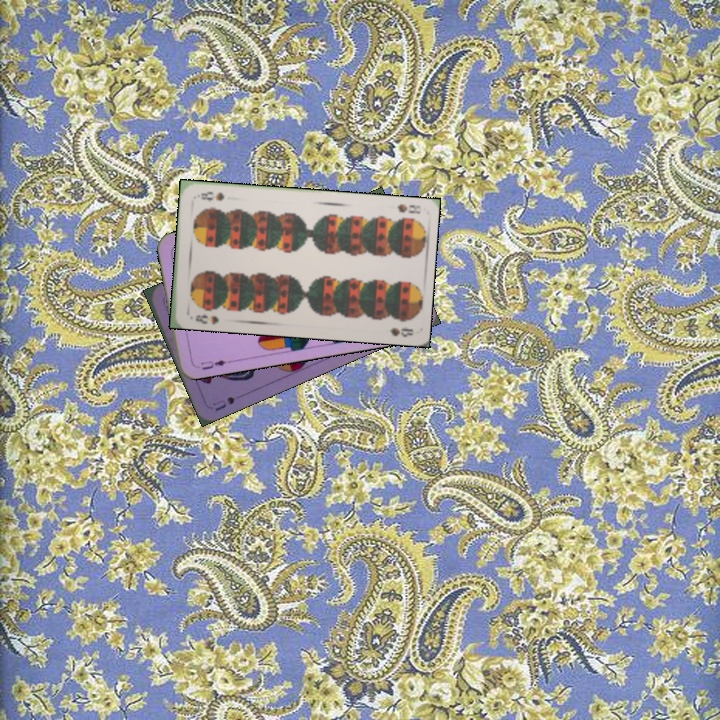EU: (197, 356, 229, 372)
S8: (191, 309, 221, 326), (393, 200, 423, 216)
SU: (208, 392, 238, 414)
